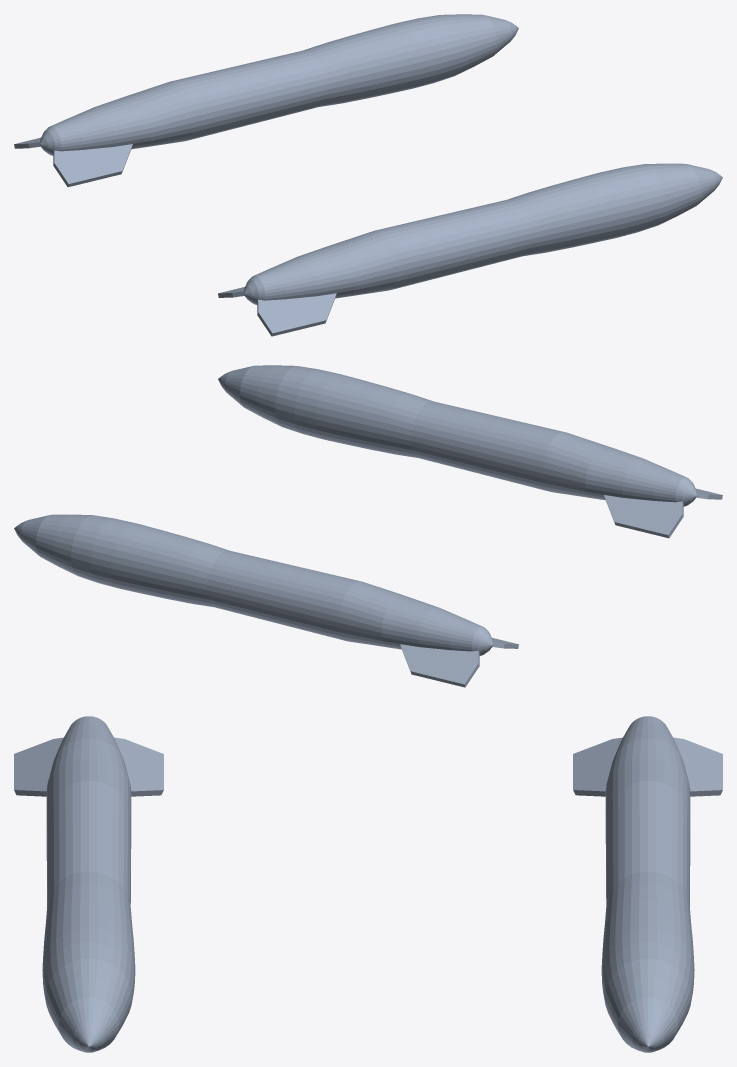
3 views of the same model, one above another, from view 1: azimuth 30°, elevation 25°; view 2: azimuth 150°, elevation 25°; view 3: azimuth 270°, elevation 25° (orthographic). The views are drawn at different scales.
Parts seen in each view (by area): view 1: 立方体.003, 立方体.002; view 2: 立方体.002, 立方体.003; view 3: 立方体.002, 立方体.003.
Boxes of the visible parts, x1,y1,x2,y2 form: 立方体.003: (14, 14, 518, 187); 立方体.002: (218, 163, 722, 336); 立方体.002: (218, 365, 722, 538); 立方体.003: (14, 514, 518, 687); 立方体.002: (14, 716, 163, 1052); 立方体.003: (573, 716, 722, 1052).
Bounding box in the file's own units: 5.88 × 0.7209 × 5.5.
